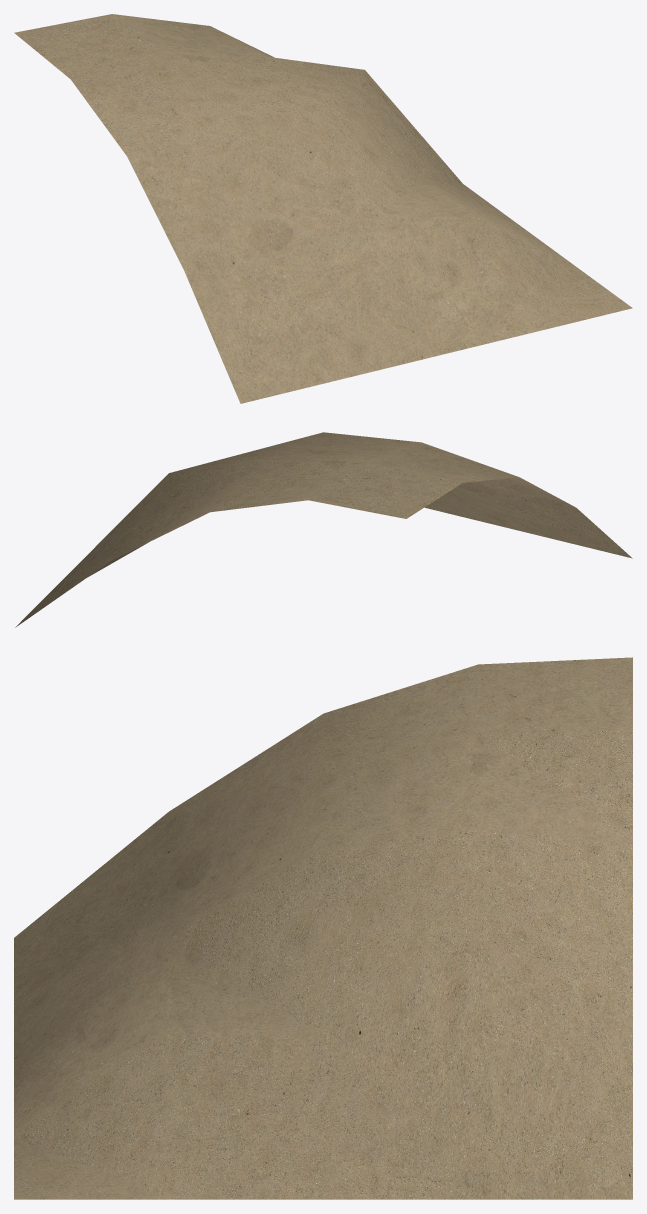
File: SandCornR.fbx
3 renders of one model, top to bottom at view 1: azimuth 30°, elevation 25°; view 2: azimuth 150°, elevation 25°; view 3: azimuth 270°, elevation 25°, orthographic. The views are drawn at different scales.
Visible parts, largest first — view 1: SandCornR; view 2: SandCornR; view 3: SandCornR.
Boxes of the visible parts, left/top/right/bottom form: SandCornR: left=14, top=14, right=632, bottom=403; SandCornR: left=15, top=432, right=632, bottom=627; SandCornR: left=14, top=657, right=632, bottom=1199.
Size of the model in its own units: 800 by 400 by 800.
